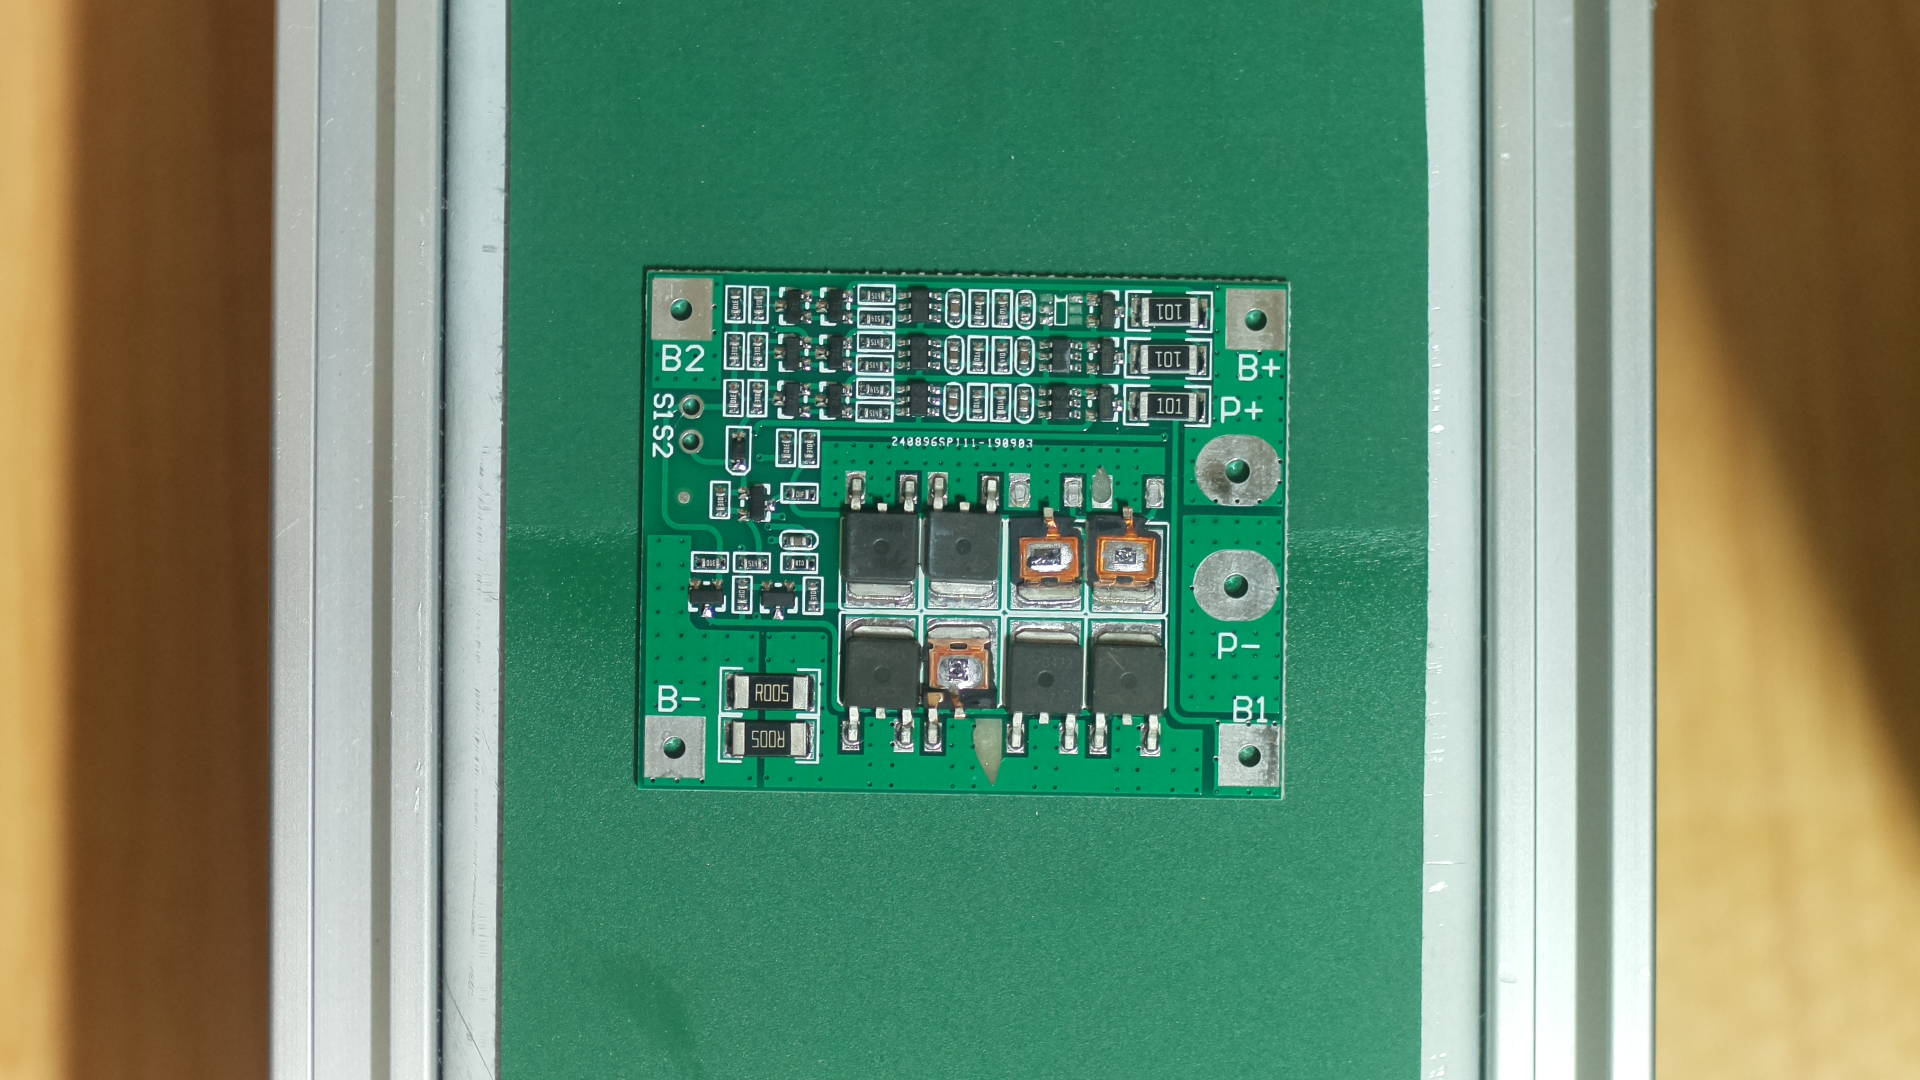C_Missing_part: (632, 239, 1308, 820)
